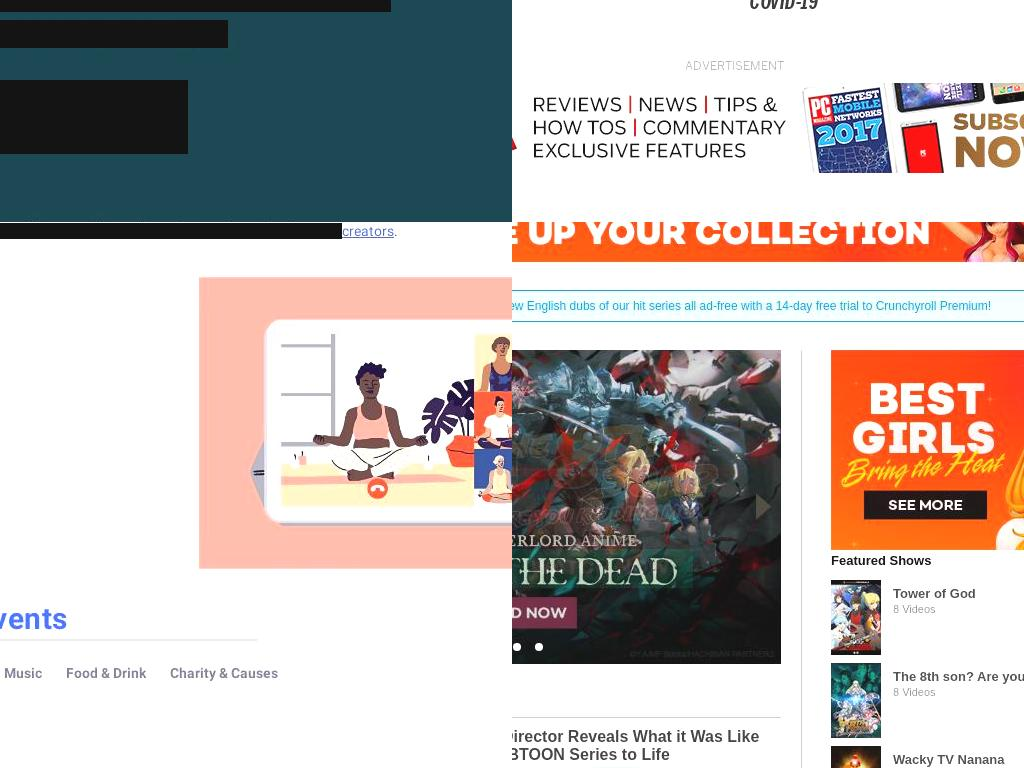button: (512, 222, 1024, 262), (827, 575, 1024, 659), (827, 658, 1024, 742), (0, 80, 188, 154), (0, 88, 188, 146), (512, 727, 777, 764), (827, 741, 1024, 768), (170, 653, 278, 693), (66, 653, 146, 693), (4, 653, 42, 693)
field: (0, 587, 258, 651)
heading: (0, 377, 512, 409), (0, 349, 512, 377), (831, 552, 1024, 568)
iframe: (512, 83, 1024, 173)
image: (199, 277, 512, 569), (512, 349, 781, 664), (0, 313, 333, 533), (831, 349, 1024, 550), (512, 222, 1024, 262), (831, 579, 881, 655), (831, 662, 881, 738), (831, 745, 881, 768), (756, 493, 771, 521)
link: (512, 298, 991, 313), (250, 223, 312, 239), (342, 223, 394, 239)
text: (512, 49, 1024, 83), (0, 20, 228, 48), (0, 223, 250, 239), (893, 583, 1024, 603), (893, 666, 1024, 686), (893, 749, 1024, 768), (170, 665, 278, 681), (893, 602, 1024, 615), (893, 685, 1024, 698), (66, 665, 146, 681), (4, 665, 42, 681), (312, 223, 342, 239), (394, 223, 398, 239)
